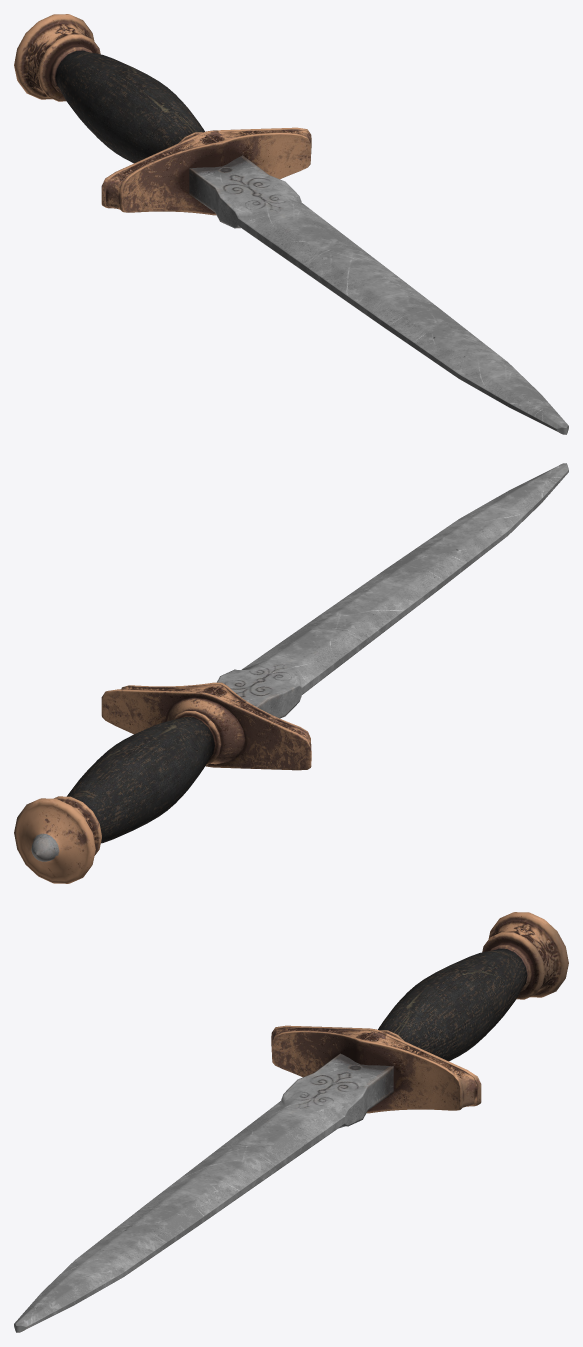
The model's file is PirateDagger.fbx.
The picture shows the model from 3 angles, top to bottom: view 1: azimuth 30°, elevation 25°; view 2: azimuth 150°, elevation 25°; view 3: azimuth 330°, elevation 25°; orthographic projection.
Parts seen in each view (by area): view 1: dagger.Shape; view 2: dagger.Shape; view 3: dagger.Shape.
Boxes of the visible parts, x1,y1,x2,y2 form: dagger.Shape: (14,14,568,434); dagger.Shape: (14,463,568,883); dagger.Shape: (14,912,568,1332).
Bounding box in the file's own units: 11.98 × 4.58 × 52.44.
